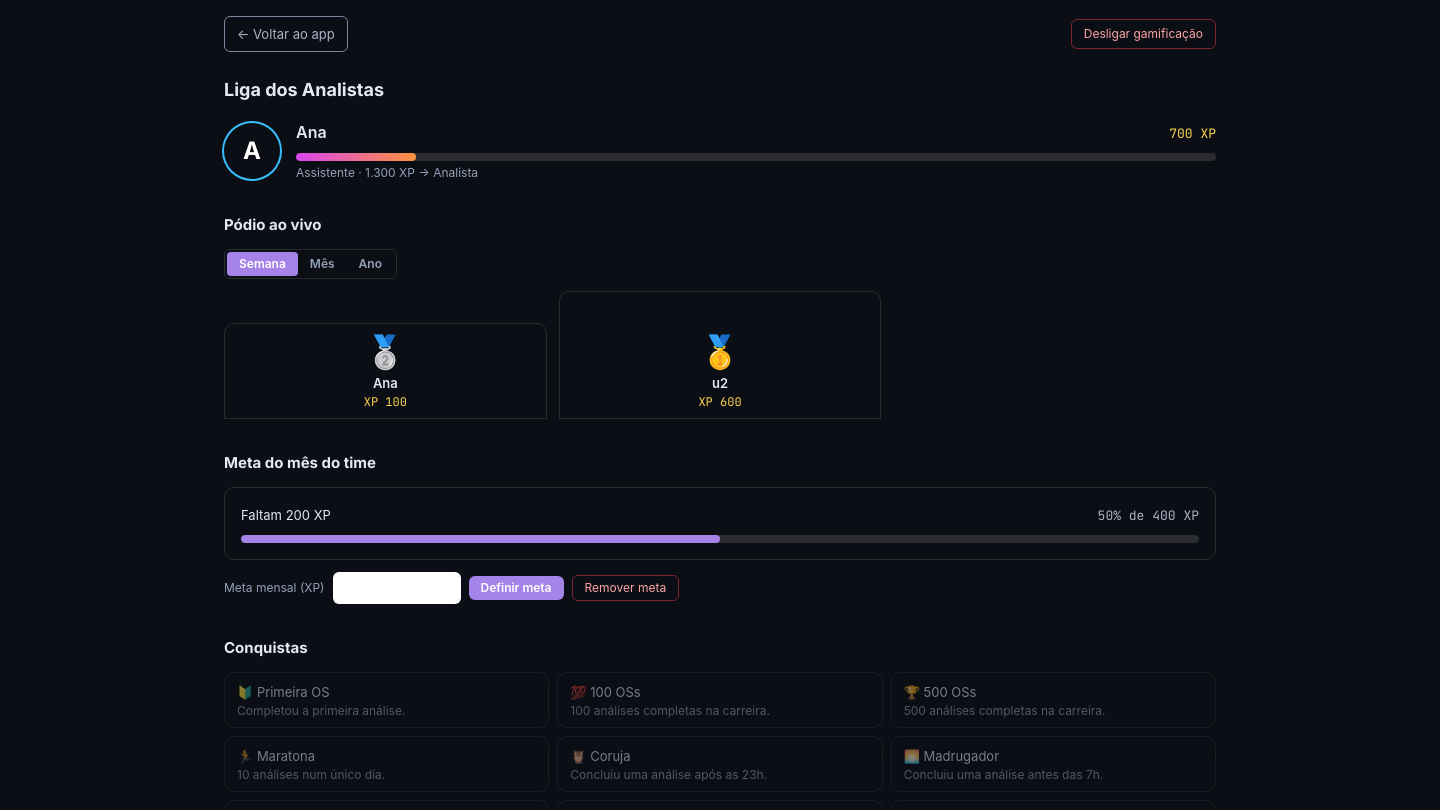
Scenario: LeaguePanel — seção Meta do mês (modo time C4) › admin remove a meta: volta ao estado vazio
Click the button "Remover meta" at [625, 588], box left=572, top=575, right=679, bottom=601
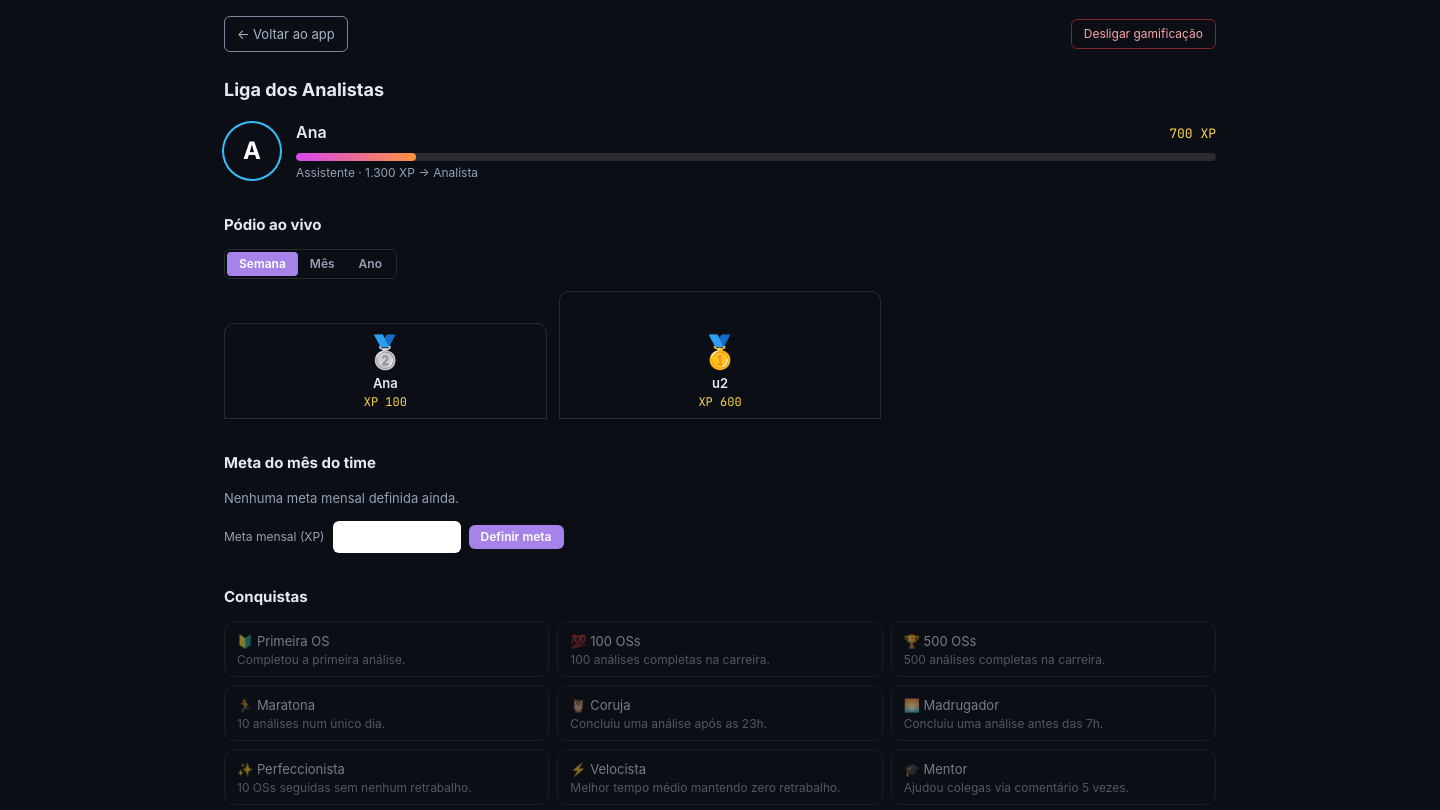
Result: the text "Nenhuma meta mensal definida ainda." is shown at left=224, top=490, right=459, bottom=506
